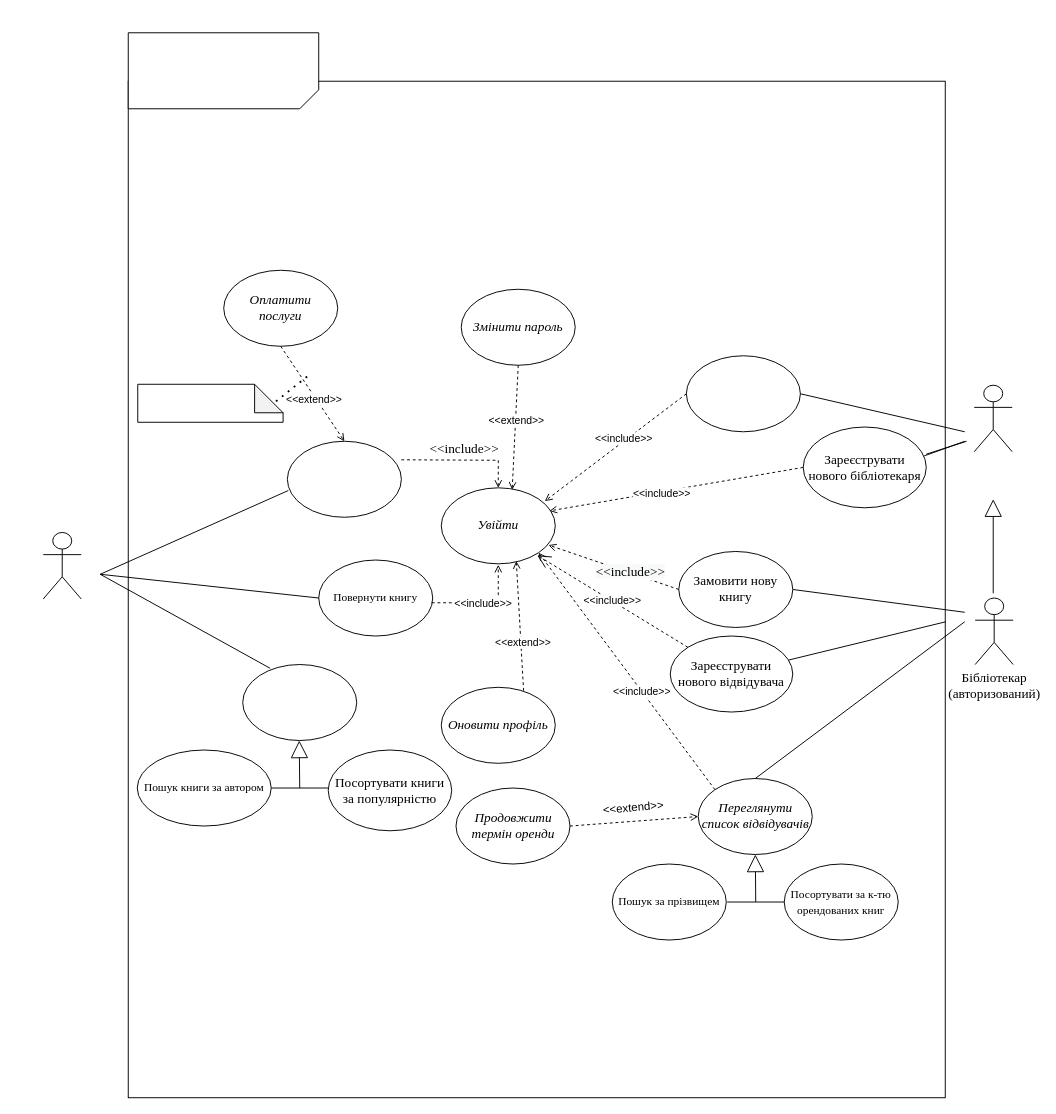
Some shapes in this 1056 by 1114 pixel diagram are drawn without their labels. Each missing label, with the centre of its shape:
Information system "Library": point 223,70
Відвідувач (авторизований): point 61,565
Орендувати книгу: point 343,478
Переглянути список книг: point 299,702
Редагувати данні про бібліотеку: point 742,393
Системний користувач (авторизований): point 992,418
Якщо вичерпано безкоштовний ліміт: point 210,402
